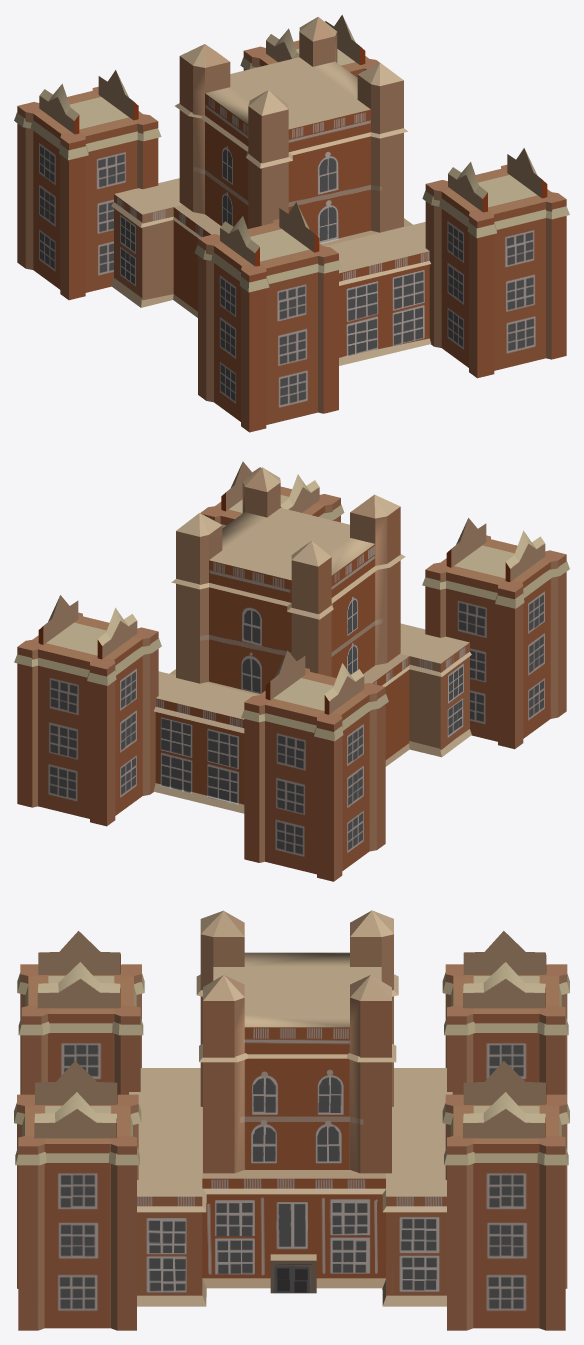
The model's file is WollatonHall.FBX.
3 views of the same model, one above another, from view 1: azimuth 30°, elevation 25°; view 2: azimuth 150°, elevation 25°; view 3: azimuth 270°, elevation 25° (orthographic). The views are drawn at different scales.
Parts seen in each view (by area): view 1: wollatonhall, wollatonhall_center; view 2: wollatonhall, wollatonhall_center; view 3: wollatonhall_center, wollatonhall.
Part boxes in pixels (x1,y1,x2,y2): wollatonhall: [14, 15, 569, 432]; wollatonhall_center: [111, 17, 431, 365]; wollatonhall: [14, 461, 569, 881]; wollatonhall_center: [153, 467, 471, 813]; wollatonhall_center: [129, 910, 452, 1306]; wollatonhall: [14, 931, 569, 1330].
Bounding box in the file's own units: 62.9 × 47.62 × 80.27.
